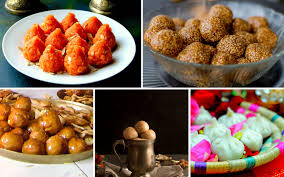modak: (24, 18, 111, 67), (199, 106, 270, 157)
